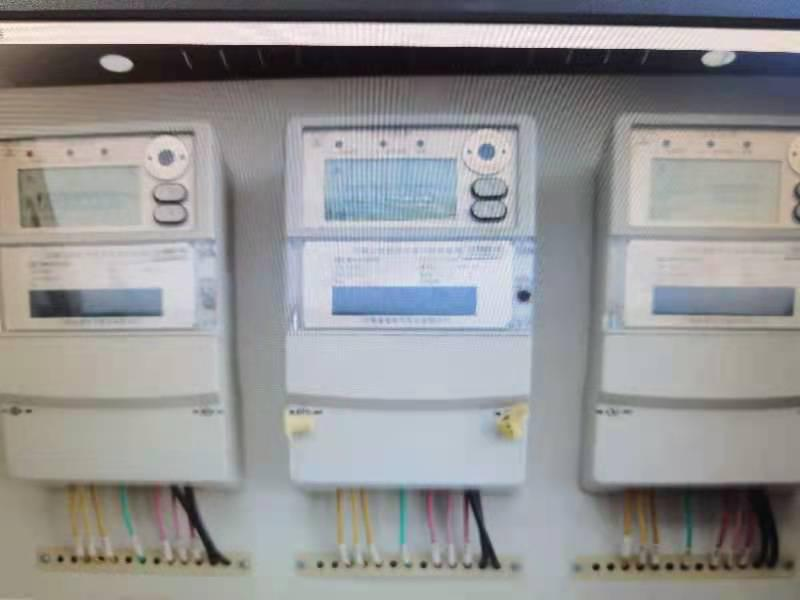digital: (285, 114, 534, 485), (1, 125, 232, 484), (587, 111, 800, 484)
